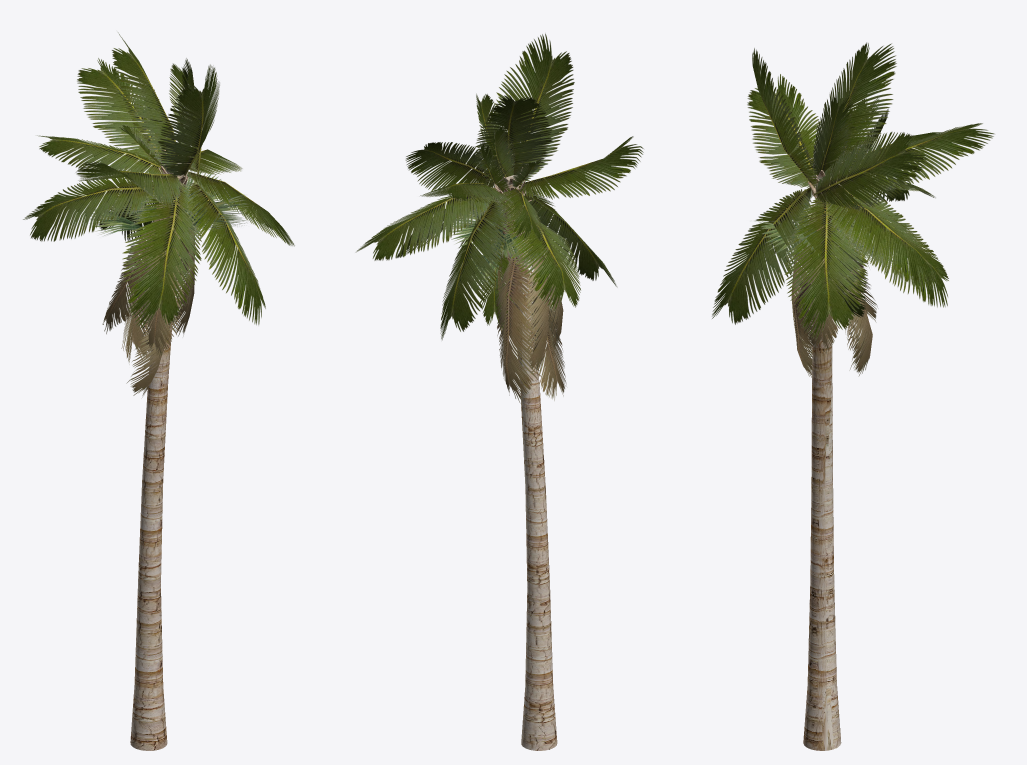
The model's file is palmeira_alta.gltf.
3 renders of one model, left to right at view 1: azimuth 30°, elevation 25°; view 2: azimuth 150°, elevation 25°; view 3: azimuth 270°, elevation 25°, orthographic. The views are drawn at different scales.
Parts seen in each view (by area): view 1: palmeira_alta; view 2: palmeira_alta; view 3: palmeira_alta.
Boxes of the visible parts, left/top/right/bottom form: palmeira_alta: left=23, top=32, right=294, bottom=750; palmeira_alta: left=356, top=33, right=644, bottom=750; palmeira_alta: left=712, top=42, right=994, bottom=750.
Bounding box in the file's own units: 6.51 × 16 × 6.3.
4 materials, 4 textured.
